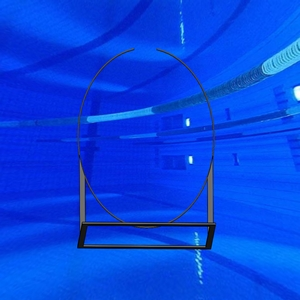circle: (75, 47, 218, 251)
